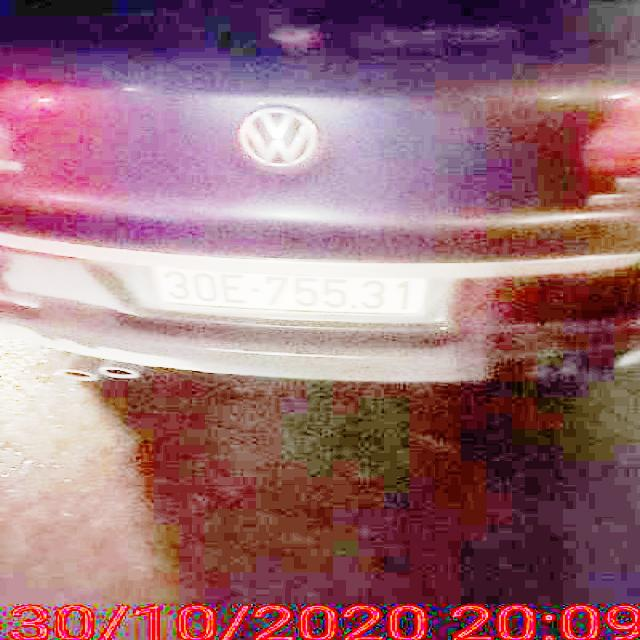license_plate: (149, 266, 432, 320)
